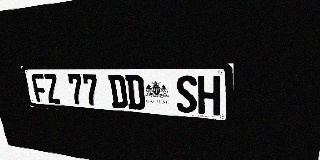7: (81, 74, 101, 107), (66, 74, 86, 105)
D: (125, 75, 146, 110), (108, 75, 128, 109)
F: (30, 74, 49, 103)
H: (197, 75, 221, 115)
S: (175, 75, 197, 114)
Z: (43, 74, 62, 104)
